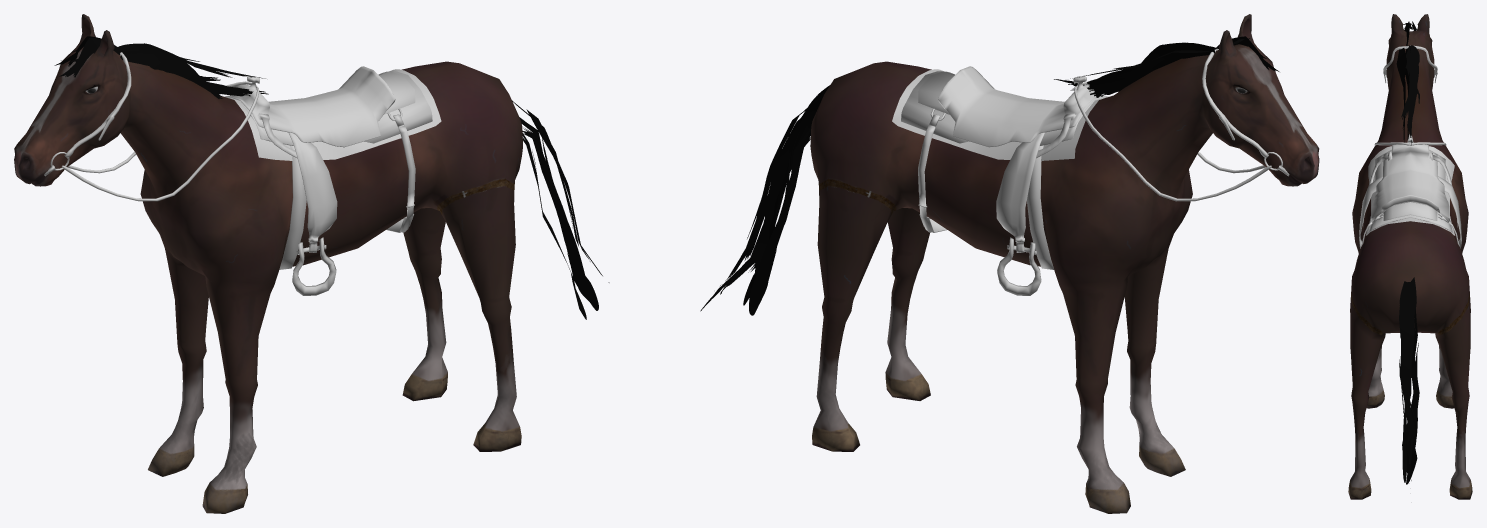
3 renders of one model, left to right at view 1: azimuth 30°, elevation 25°; view 2: azimuth 150°, elevation 25°; view 3: azimuth 270°, elevation 25°, orthographic. The views are drawn at different scales.
Parts seen in each view (by area): view 1: Horse; view 2: Horse; view 3: Horse.
Boxes of the visible parts, x1,y1,x2,y2 form: Horse: (14,14,609,513); Horse: (700,14,1319,513); Horse: (1348,14,1472,499).
Bounding box in the file's own units: 5.59 × 4.12 × 1.31.
